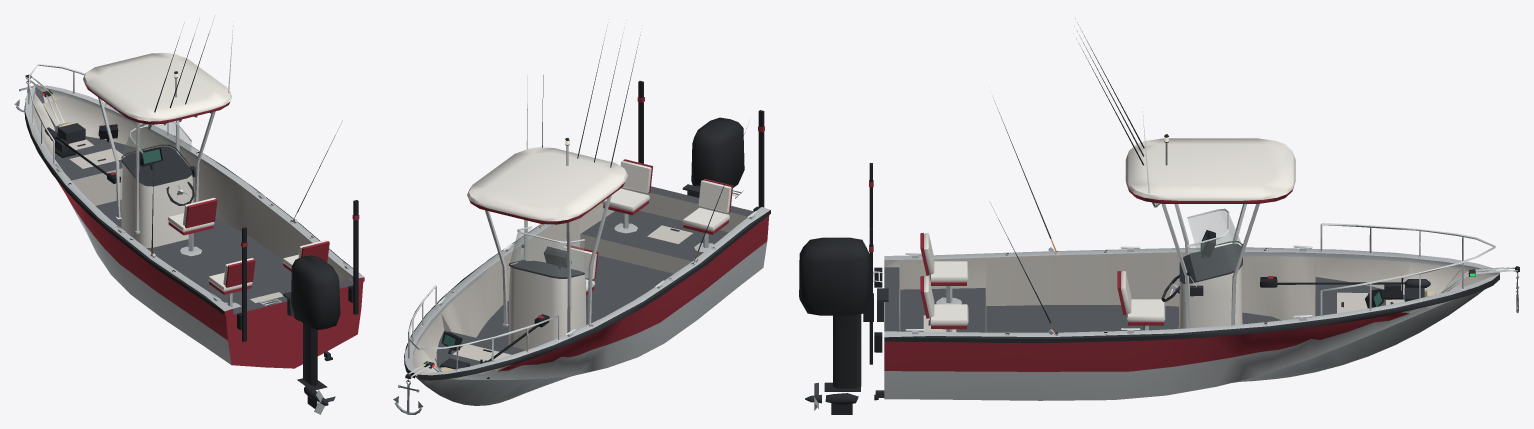
Rendered from northsilver_lod1.glb.
3 views of the same model, side by side, from view 1: azimuth 30°, elevation 25°; view 2: azimuth 150°, elevation 25°; view 3: azimuth 270°, elevation 25° (orthographic). The views are drawn at different scales.
Visible parts, largest first — view 1: northsilver_body, motor, rods; view 2: northsilver_body, motor, rods; view 3: northsilver_body, motor, rods.
Boxes of the visible parts, box(x1,y1,x2,y2) form: northsilver_body: box(24, 21, 364, 368); motor: box(291, 255, 340, 408); rods: box(148, 30, 342, 257); northsilver_body: box(404, 76, 770, 405); motor: box(691, 117, 744, 187); rods: box(540, 31, 746, 263); northsilver_body: box(869, 107, 1519, 400); motor: box(799, 237, 873, 414); rods: box(989, 22, 1144, 334).
Size of the model in its own units: 3.04 by 4.81 by 8.2.
